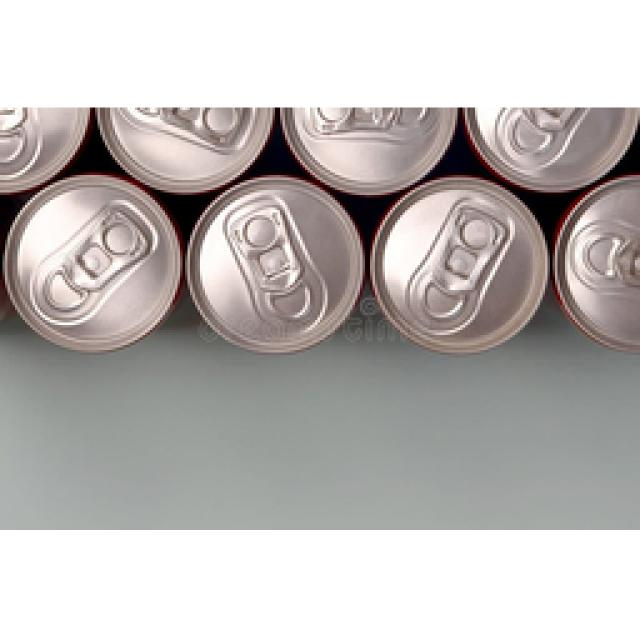aluminum_soda_cans: (375, 185, 560, 350), (15, 178, 185, 348), (188, 185, 368, 343), (96, 110, 276, 173), (470, 112, 632, 178), (295, 113, 458, 177)
